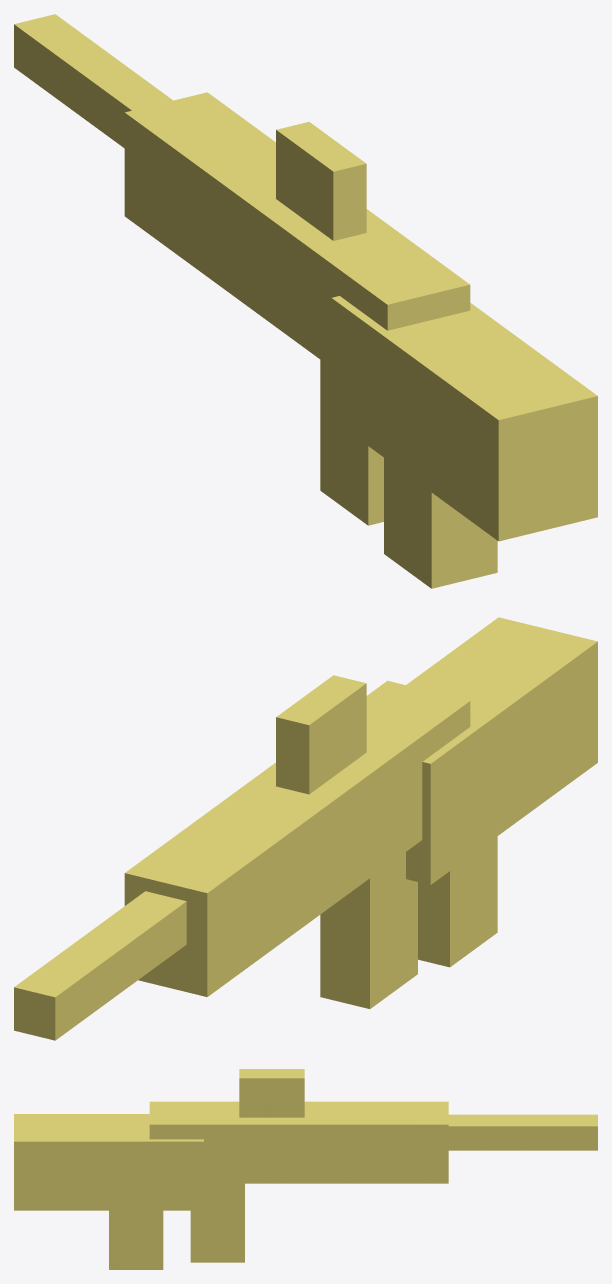
Rendered from fps-akm.glb.
3 views of the same model, one above another, from view 1: azimuth 30°, elevation 25°; view 2: azimuth 150°, elevation 25°; view 3: azimuth 270°, elevation 25° (orthographic). The views are drawn at different scales.
Parts seen in each view (by area): view 1: Root; view 2: Root; view 3: Root.
Boxes of the visible parts, left/top/right/bottom form: Root: left=14, top=14, right=597, bottom=588; Root: left=14, top=617, right=597, bottom=1040; Root: left=14, top=1069, right=597, bottom=1269.
Bounding box in the file's own units: 0.12 × 0.38 × 1.07.
